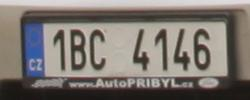1: (53, 29, 66, 71), (155, 29, 168, 71)
4: (133, 29, 150, 70), (174, 29, 190, 70)
6: (194, 28, 210, 70)
B: (70, 30, 86, 70)
C: (90, 30, 105, 70)
